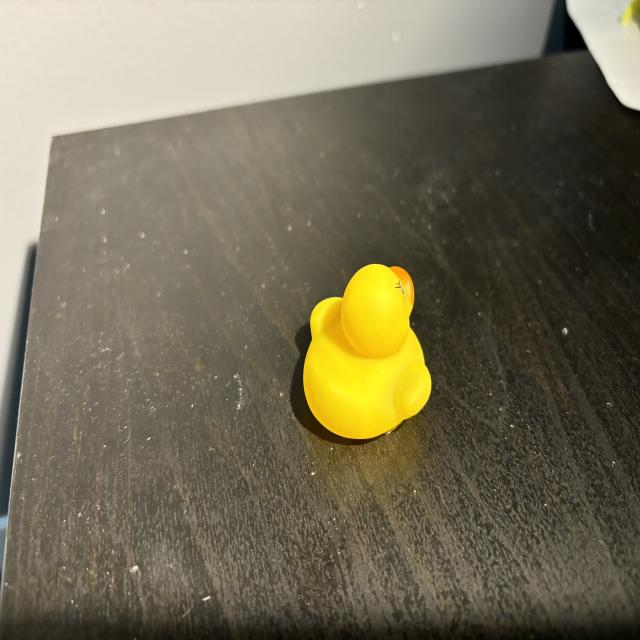duck_regular: (303, 265, 433, 440)
